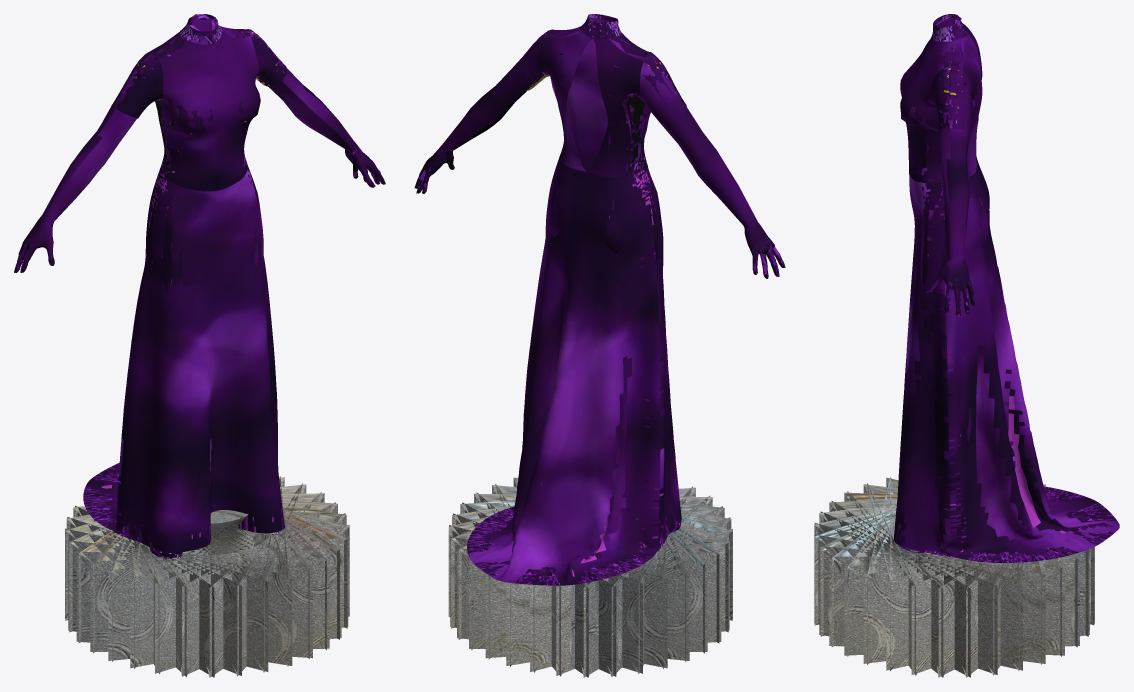
The model's file is gown6animate.glb.
3 renders of one model, left to right at view 1: azimuth 30°, elevation 25°; view 2: azimuth 150°, elevation 25°; view 3: azimuth 270°, elevation 25°, orthographic.
Parts seen in each view (by area): view 1: Evening Dress, Cylinder; view 2: Evening Dress, Cylinder; view 3: Evening Dress, Cylinder.
Part boxes in pixels (x1,y1,x2,y2): Evening Dress: (14, 14, 385, 559); Cylinder: (65, 476, 349, 677); Evening Dress: (414, 14, 785, 585); Cylinder: (448, 476, 732, 677); Evening Dress: (894, 14, 1119, 562); Cylinder: (814, 477, 1094, 677).
Size of the model in its own units: 1.48 by 2.43 by 1.08.
8 materials, 5 textured.
